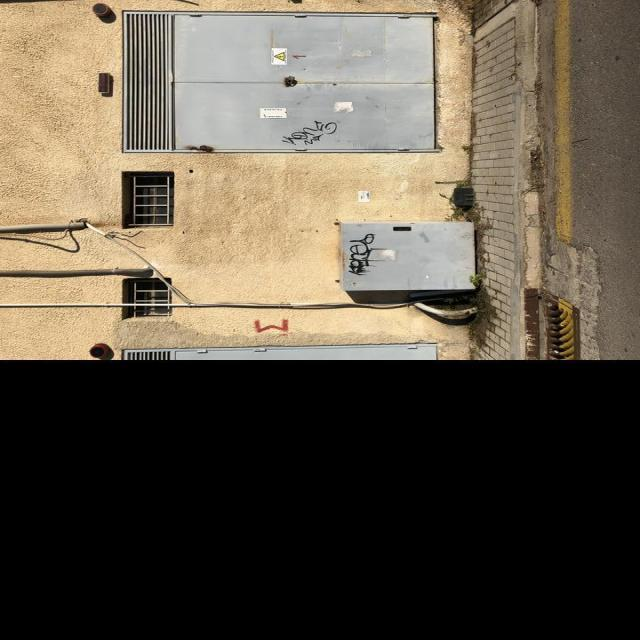nonspitting: (348, 233, 386, 276), (280, 122, 336, 146), (253, 318, 290, 336)
